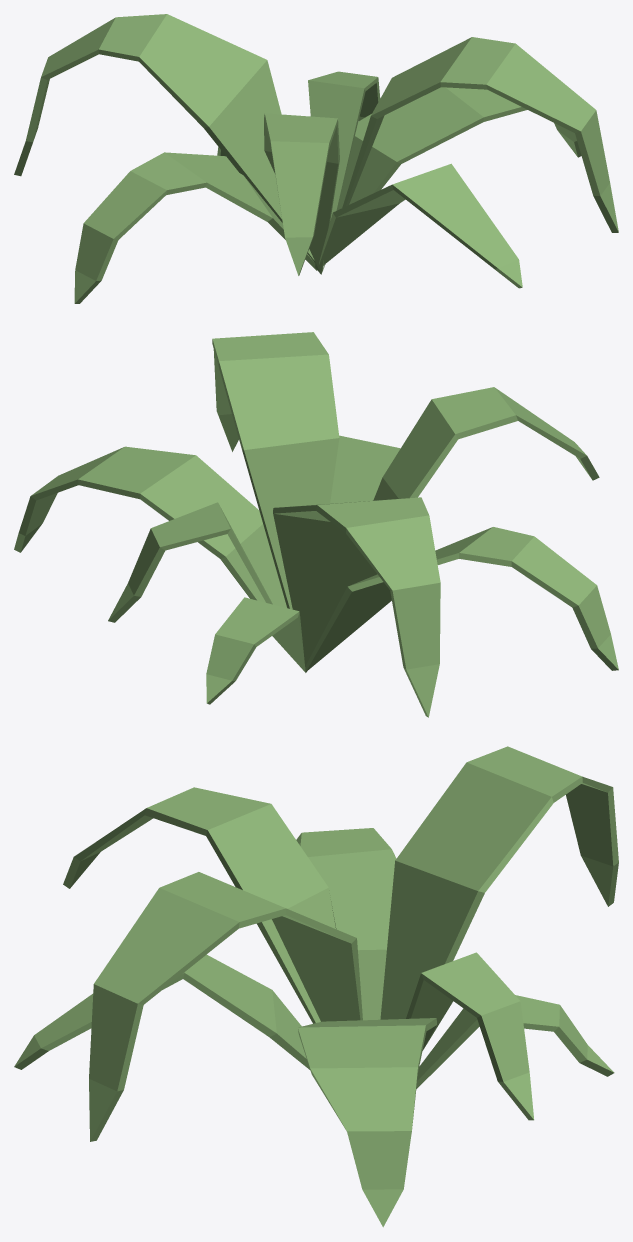
File: plant_1.glb
3 views of the same model, one above another, from view 1: azimuth 30°, elevation 25°; view 2: azimuth 150°, elevation 25°; view 3: azimuth 270°, elevation 25° (orthographic). The views are drawn at different scales.
Parts seen in each view (by area): view 1: Plant_1; view 2: Plant_1; view 3: Plant_1.
Part boxes in pixels (<box>): Plant_1: <box>14,14,618,303</box>; Plant_1: <box>14,332,618,717</box>; Plant_1: <box>14,746,618,1227</box>.
Size of the model in its own units: 1.2 by 0.5073 by 0.9456.
